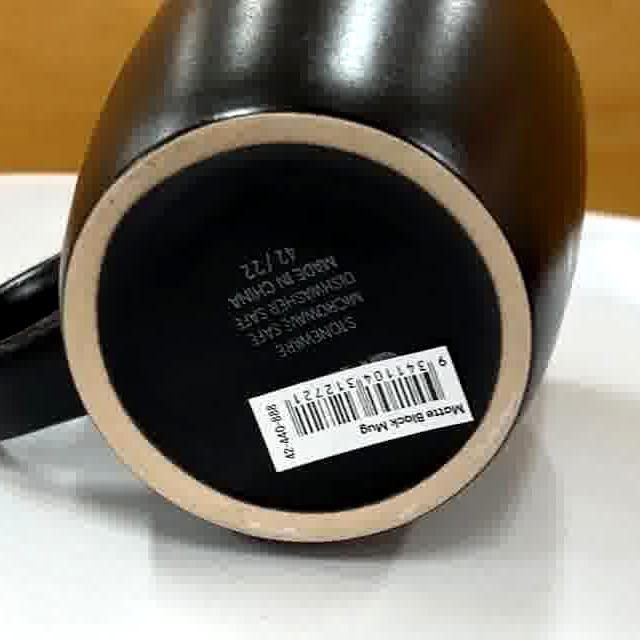cup: (0, 0, 611, 572)
